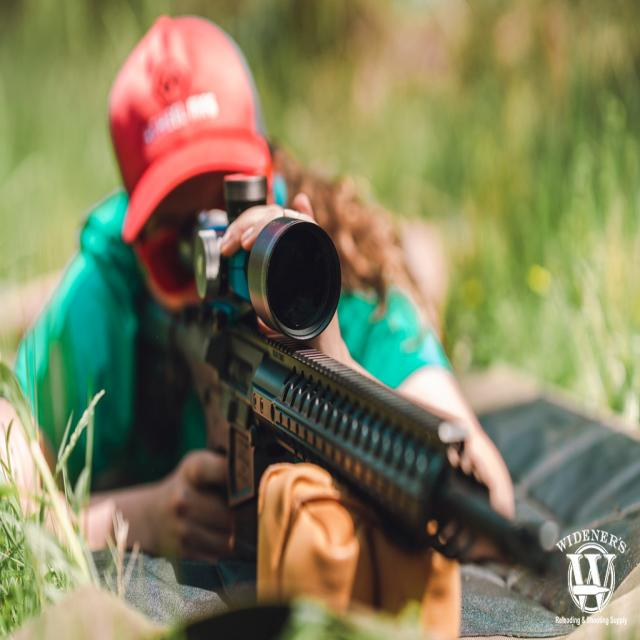Rifle: (135, 177, 548, 565)
